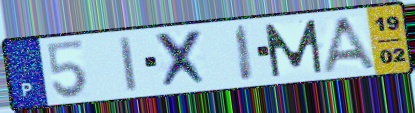5: (44, 37, 90, 101)
A: (318, 14, 380, 75)
I: (233, 23, 256, 83), (118, 34, 140, 93)
M: (262, 18, 326, 80)
X: (153, 27, 212, 92)
